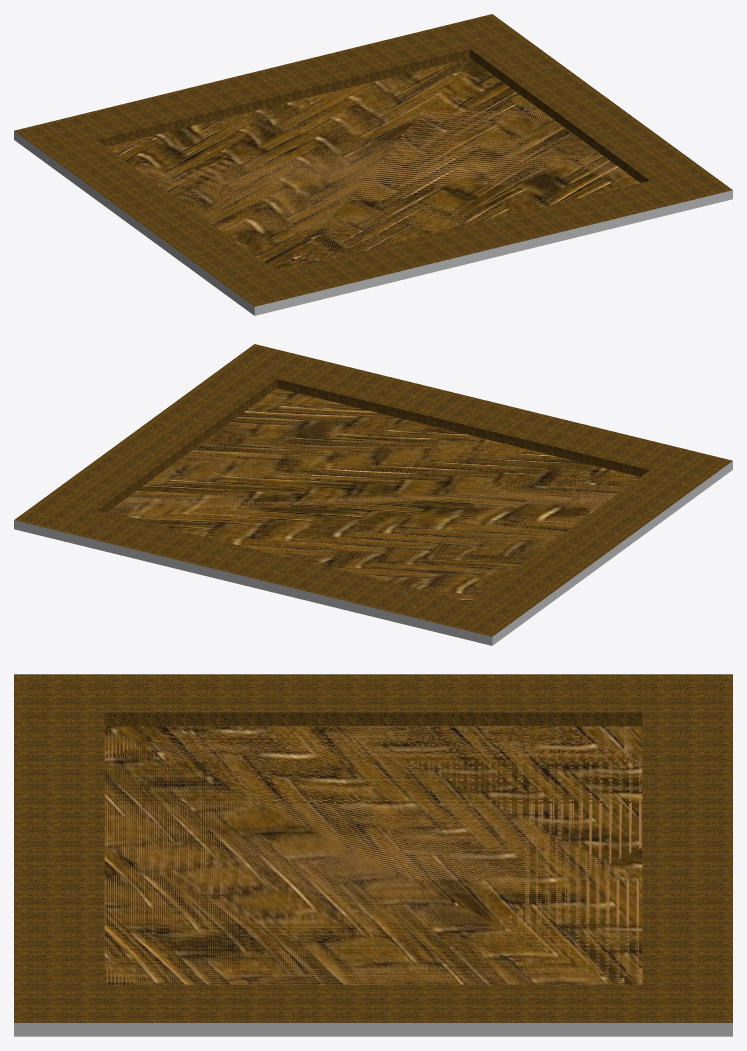
Rendered from Frame.dae.
3 renders of one model, top to bottom at view 1: azimuth 30°, elevation 25°; view 2: azimuth 150°, elevation 25°; view 3: azimuth 270°, elevation 25°, orthographic. The views are drawn at different scales.
Parts seen in each view (by area): view 1: Photo, Frame, ID17; view 2: Photo, Frame, ID17; view 3: Photo, Frame, ID17.
Boxes of the visible parts, bbox=[...] form: Photo: bbox=[107, 58, 639, 271]; Frame: bbox=[14, 14, 732, 306]; ID17: bbox=[14, 131, 732, 315]; Photo: bbox=[107, 388, 639, 601]; Frame: bbox=[14, 344, 732, 636]; ID17: bbox=[14, 461, 732, 645]; Photo: bbox=[104, 726, 642, 984]; Frame: bbox=[14, 674, 732, 1022]; ID17: bbox=[14, 1023, 732, 1036].
Size of the model in its own units: 878 by 765 by 16.
Materials: 4 (2 with a texture image).
